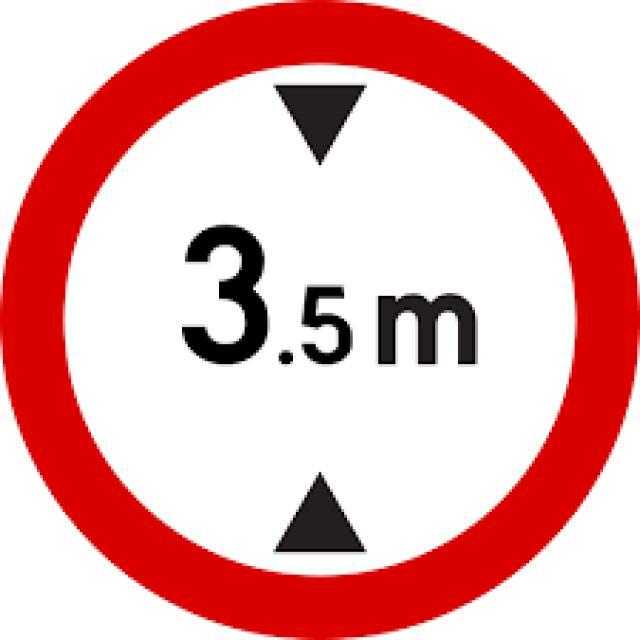height limit: (23, 22, 623, 620)
